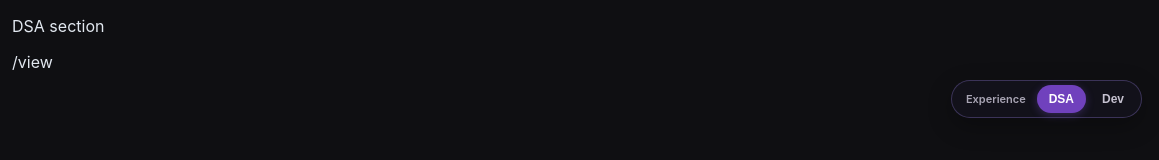
experience switch › switches view within its section and supports browser history
Click the button "Dev": click(1113, 99) [1089, 85, 1137, 113]
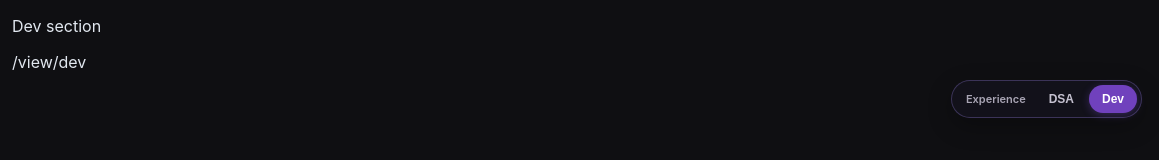
Result: the text "Dev section" is shown at [12, 16, 101, 36]
Result: the text with test id "location" reads "/view/dev" at [12, 52, 86, 72]
Click the button "DSA": click(1061, 99) [1037, 85, 1086, 113]
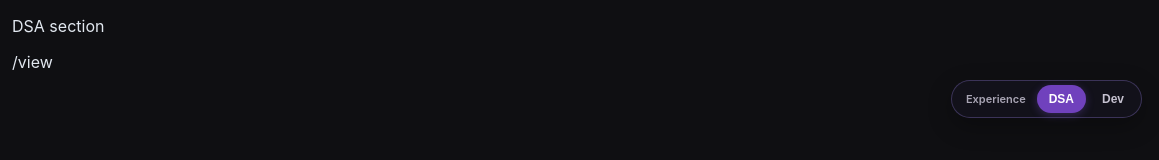
Expected: the text with test id "location" reads "/view", [12, 52, 53, 72]
Result: the text "DSA section" is shown at [12, 16, 104, 36]
